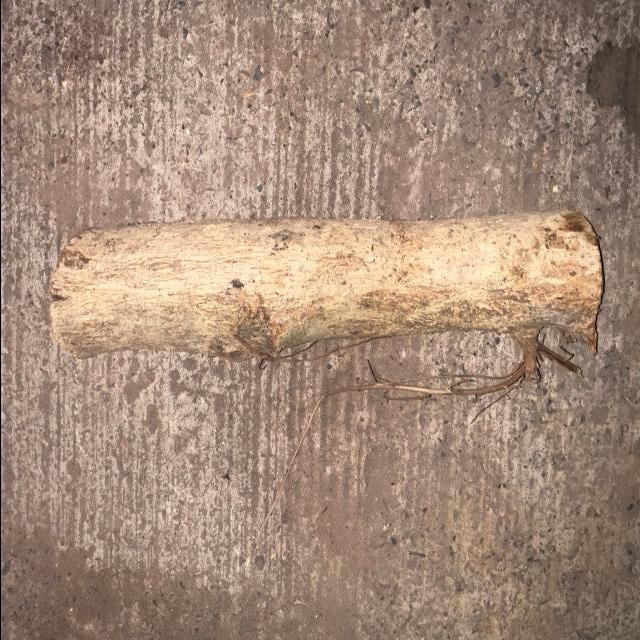General: (2, 3, 639, 639), (47, 209, 606, 419)
